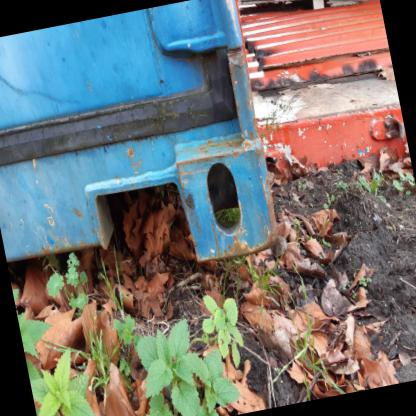CornerCasting: (165, 119, 294, 273)
